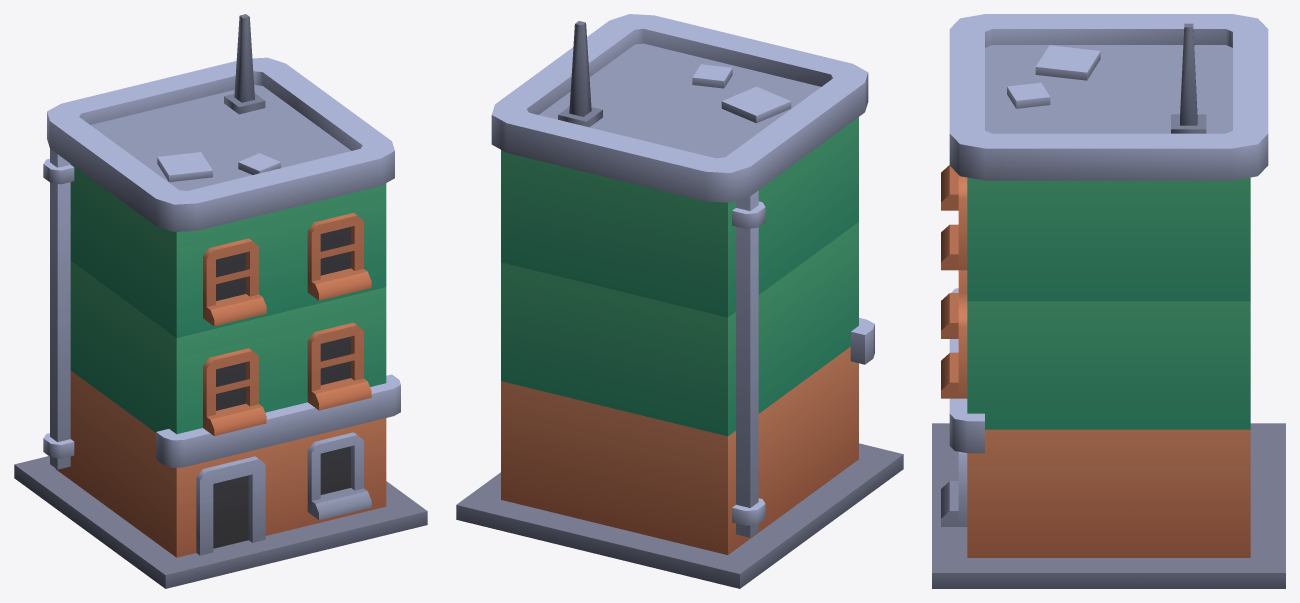
File: building_b.glb
The picture shows the model from 3 angles, left to right: view 1: azimuth 30°, elevation 25°; view 2: azimuth 150°, elevation 25°; view 3: azimuth 270°, elevation 25°; orthographic projection. The views are drawn at different scales.
Visible parts, largest first — view 1: building-small-b; view 2: building-small-b; view 3: building-small-b.
Boxes of the visible parts, x1,y1,x2,y2 form: building-small-b: [14, 14, 427, 588]; building-small-b: [456, 14, 903, 588]; building-small-b: [932, 14, 1285, 588].
Size of the model in its own units: 1 by 1.63 by 1.
1 material, 1 textured.
